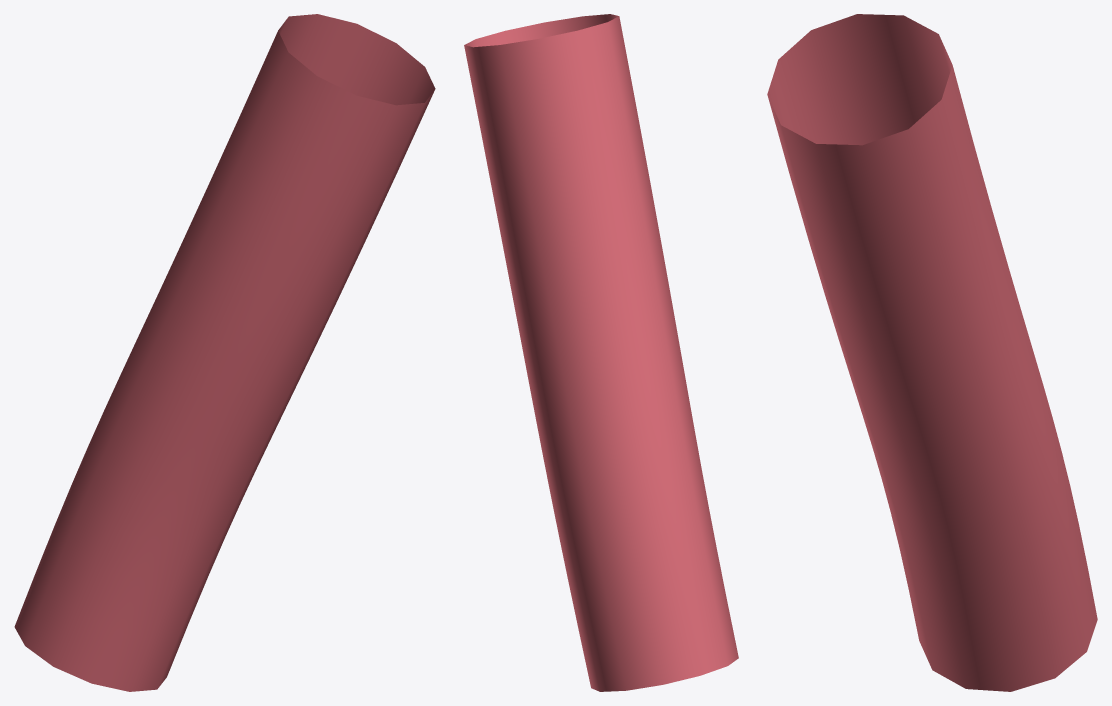
3 renders of one model, left to right at view 1: azimuth 30°, elevation 25°; view 2: azimuth 150°, elevation 25°; view 3: azimuth 270°, elevation 25°, orthographic. The views are drawn at different scales.
Parts seen in each view (by area): view 1: ZA_9e5c47a14f452bd9; view 2: ZA_9e5c47a14f452bd9; view 3: ZA_9e5c47a14f452bd9.
Part boxes in pixels (x1,y1,x2,y2): ZA_9e5c47a14f452bd9: [14, 14, 435, 691]; ZA_9e5c47a14f452bd9: [464, 14, 738, 691]; ZA_9e5c47a14f452bd9: [767, 14, 1097, 691].
Size of the model in its own units: 0.00501 by 0.00924 by 0.00385.
